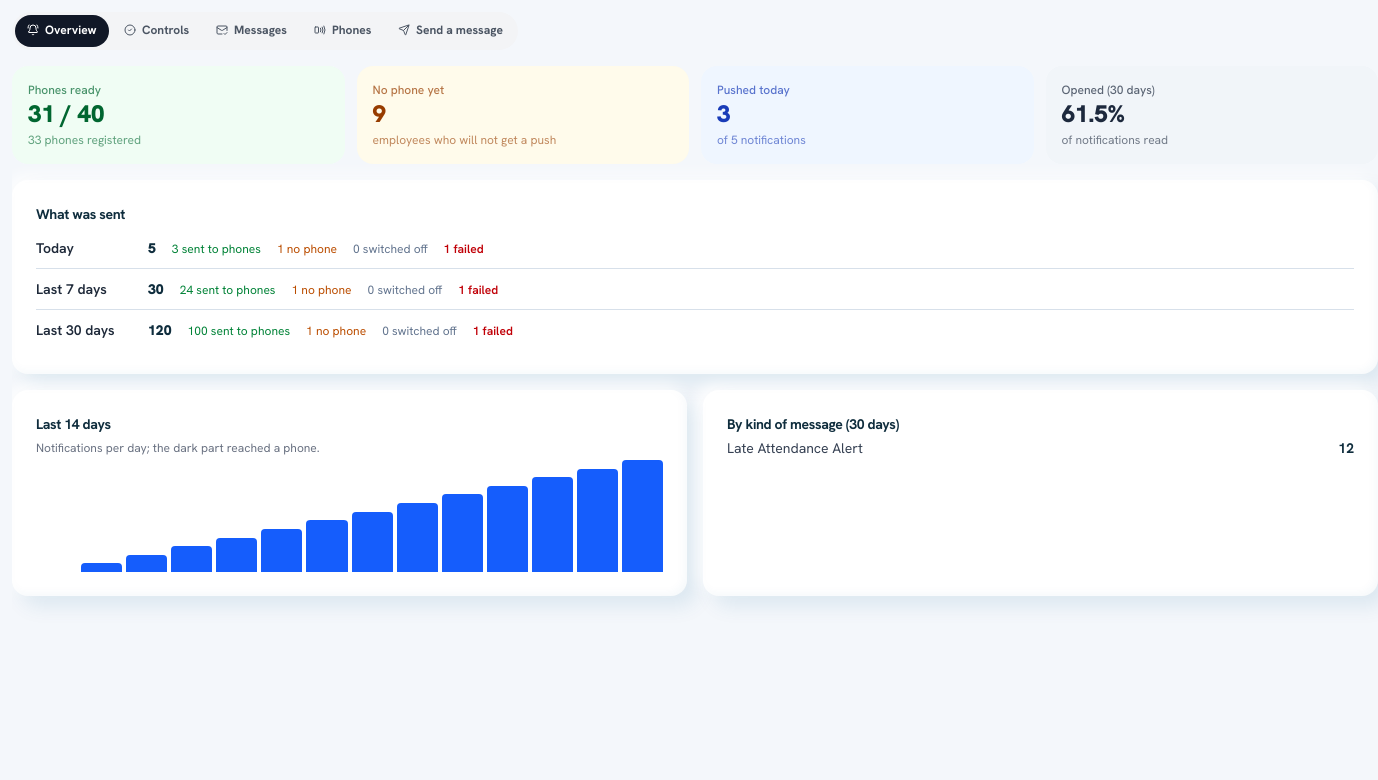
Test: Mobile Messages › marks a View-only section of an editable page, and only that one
Click the tab "Send a message" at (451, 31), box [386,15,515,47]
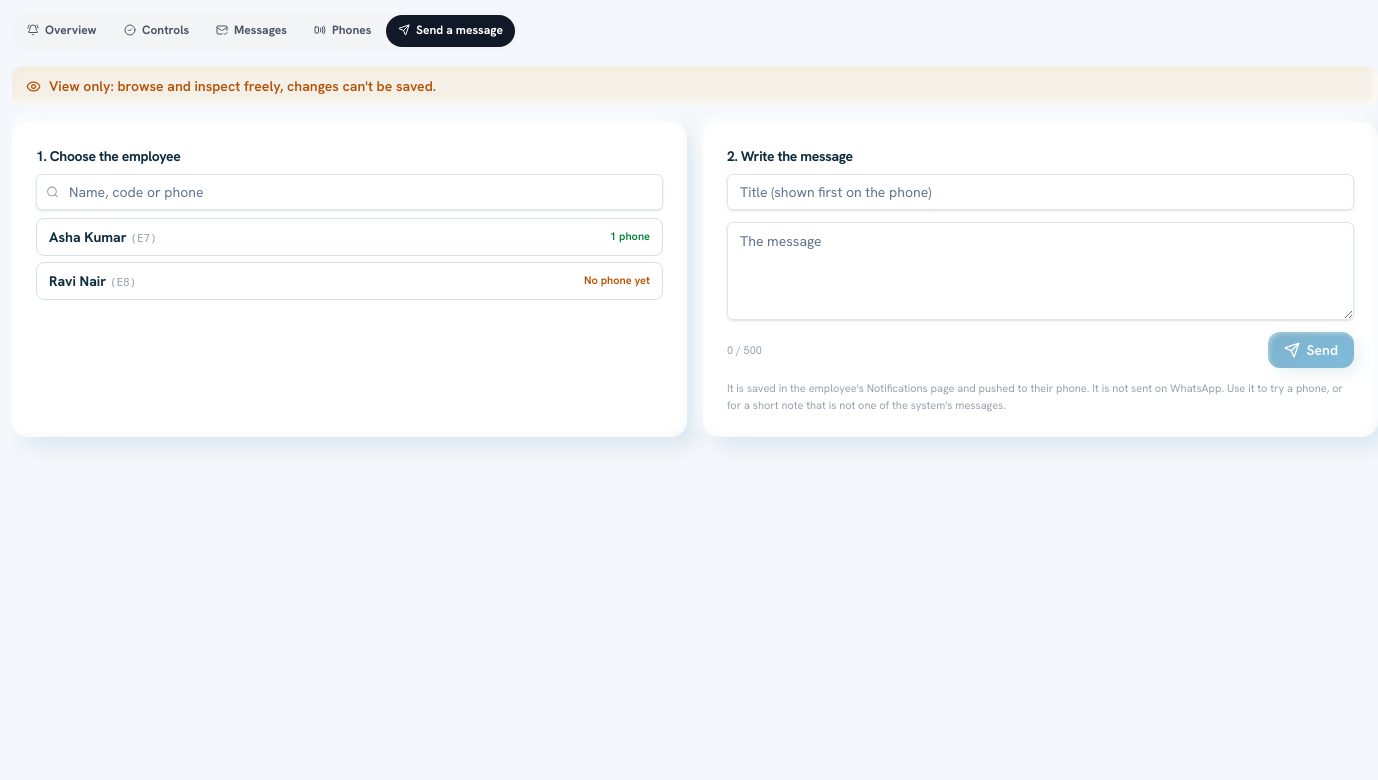
Result: the element with test id "tab-view-only" is shown at [12,66,1377,106]
